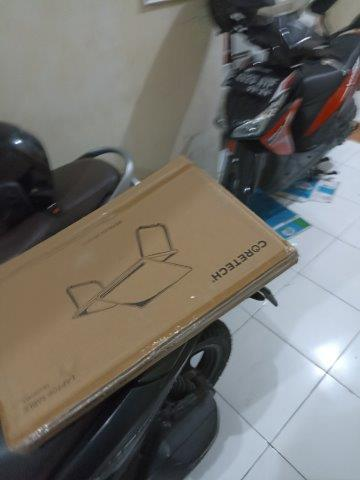kardus: (3, 158, 298, 447)
